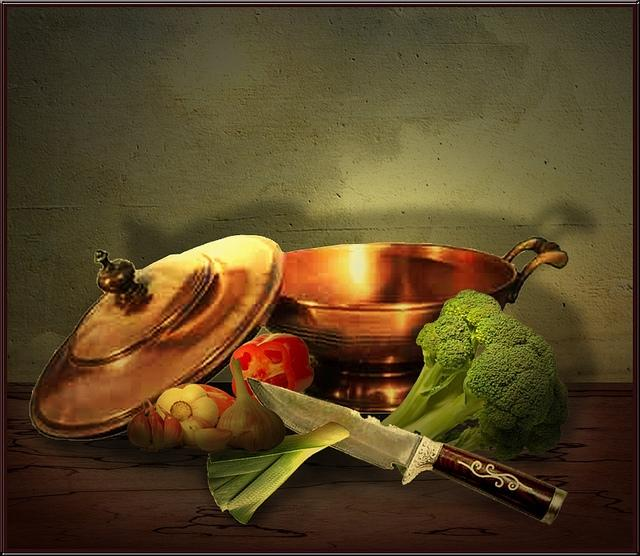bell pepper: (230, 332, 314, 404), (174, 382, 236, 418)
broccoli: (381, 289, 568, 460)
garlic: (218, 356, 286, 453), (155, 384, 219, 446), (190, 426, 234, 451)
